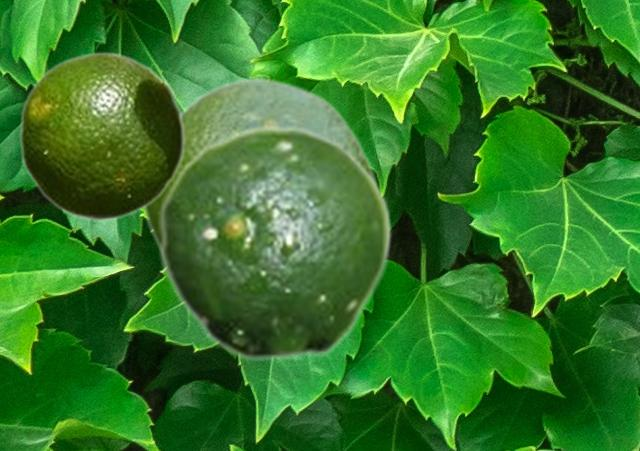calamansi: (158, 125, 391, 362), (140, 75, 377, 260), (18, 51, 185, 220)
